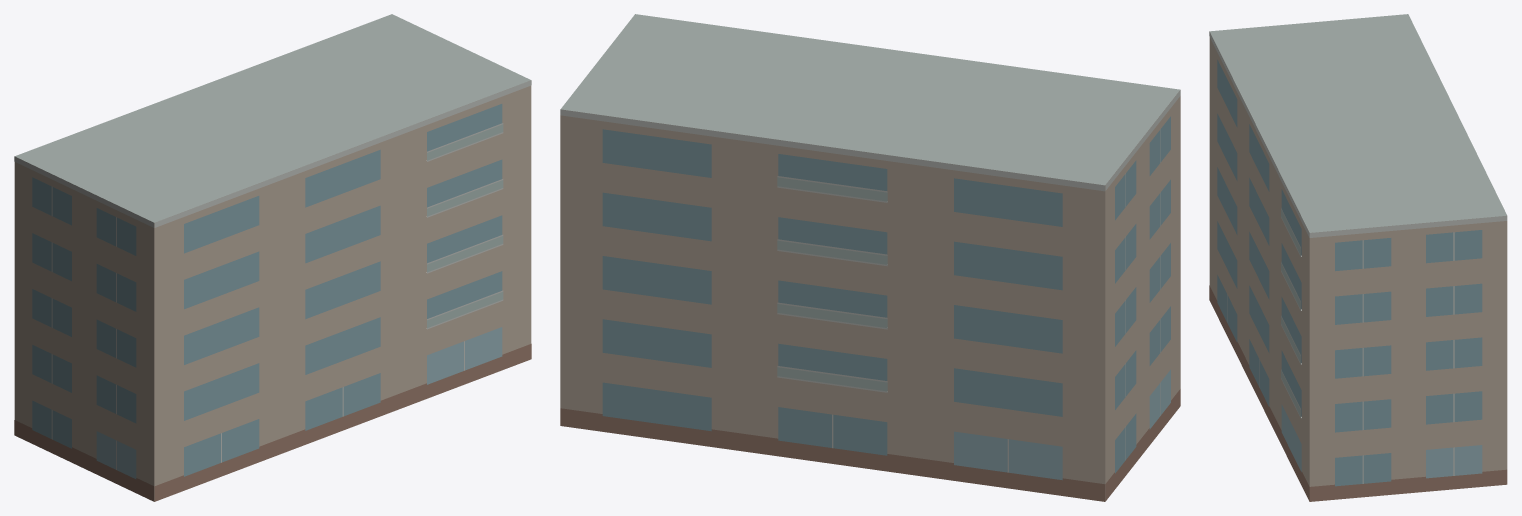
The model's file is survey-upis-32707140.glb.
The picture shows the model from 3 angles, left to right: view 1: azimuth 30°, elevation 25°; view 2: azimuth 150°, elevation 25°; view 3: azimuth 270°, elevation 25°; orthographic projection. The views are drawn at different scales.
Parts seen in each view (by area): view 1: survey-upis-32707140.tmp; view 2: survey-upis-32707140.tmp; view 3: survey-upis-32707140.tmp.
Part boxes in pixels (x1=…): survey-upis-32707140.tmp: x1=14, y1=14, x2=531, y2=501; survey-upis-32707140.tmp: x1=560, y1=14, x2=1180, y2=501; survey-upis-32707140.tmp: x1=1209, y1=14, x2=1507, y2=501.
Size of the model in its own units: 22.36 by 12.8 by 12.86.
